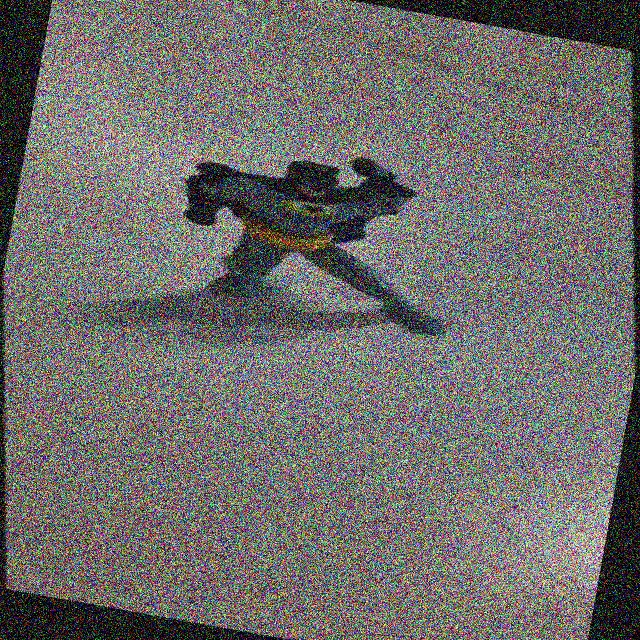Batman: (127, 121, 496, 366)
